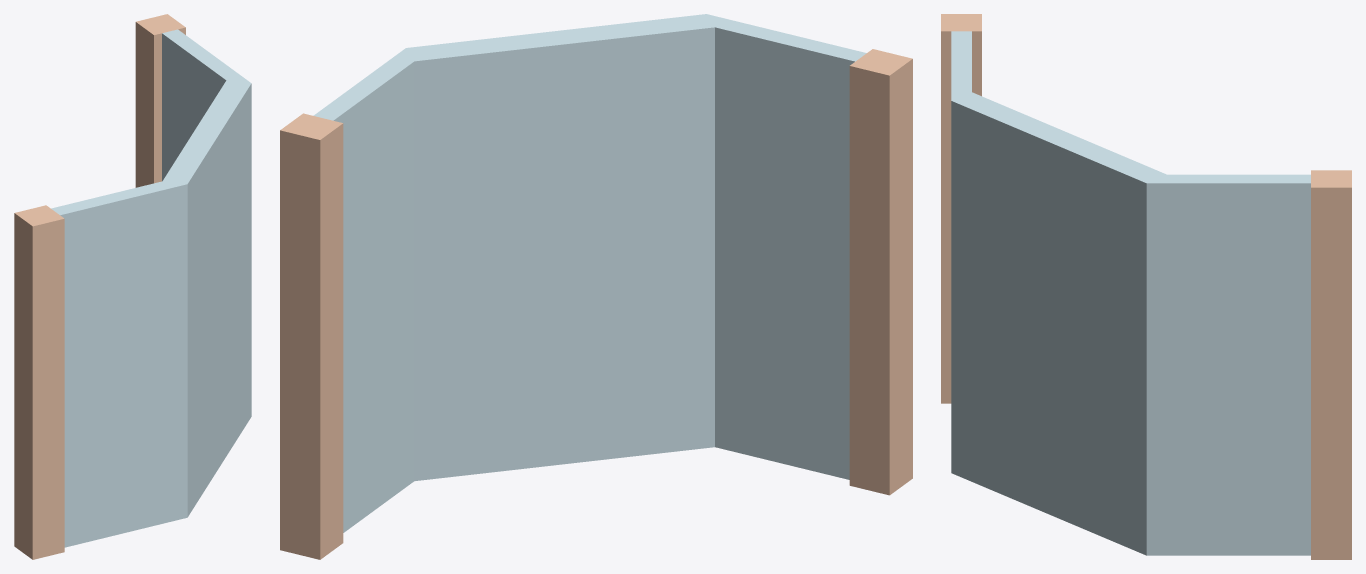
3 renders of one model, left to right at view 1: azimuth 30°, elevation 25°; view 2: azimuth 150°, elevation 25°; view 3: azimuth 270°, elevation 25°, orthographic. The views are drawn at different scales.
Parts seen in each view (by area): view 1: wallCornerDiagonal; view 2: wallCornerDiagonal; view 3: wallCornerDiagonal.
Boxes of the visible parts, bbox=[...] form: wallCornerDiagonal: bbox=[14, 14, 251, 559]; wallCornerDiagonal: bbox=[280, 14, 912, 559]; wallCornerDiagonal: bbox=[941, 14, 1351, 559].
Bounding box in the file's own units: 1 × 1 × 1.
